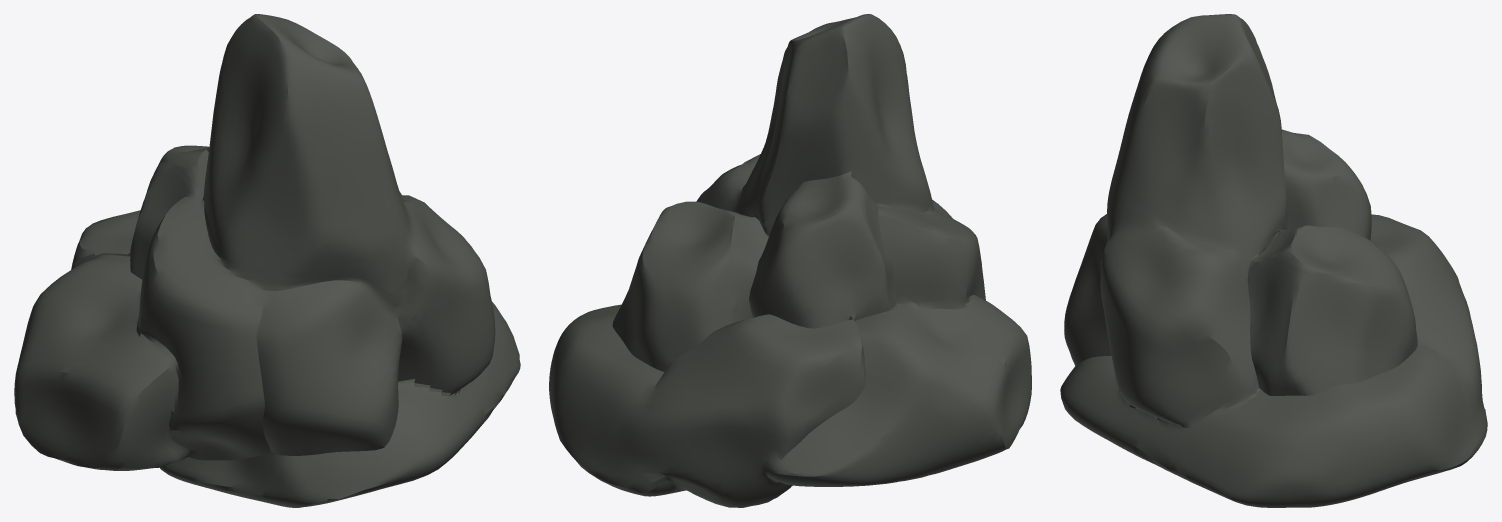
File: Environment_Cliff3.glb
The picture shows the model from 3 angles, left to right: view 1: azimuth 30°, elevation 25°; view 2: azimuth 150°, elevation 25°; view 3: azimuth 270°, elevation 25°; orthographic projection. The views are drawn at different scales.
Visible parts, largest first — view 1: Environment_Cliff3; view 2: Environment_Cliff3; view 3: Environment_Cliff3.
Boxes of the visible parts, x1,y1,x2,y2 form: Environment_Cliff3: (14,14,520,507); Environment_Cliff3: (549,14,1031,507); Environment_Cliff3: (1060,14,1487,507).
Bounding box in the file's own units: 6.86 × 6.17 × 5.95.
Materials: 1 (1 with a texture image).
